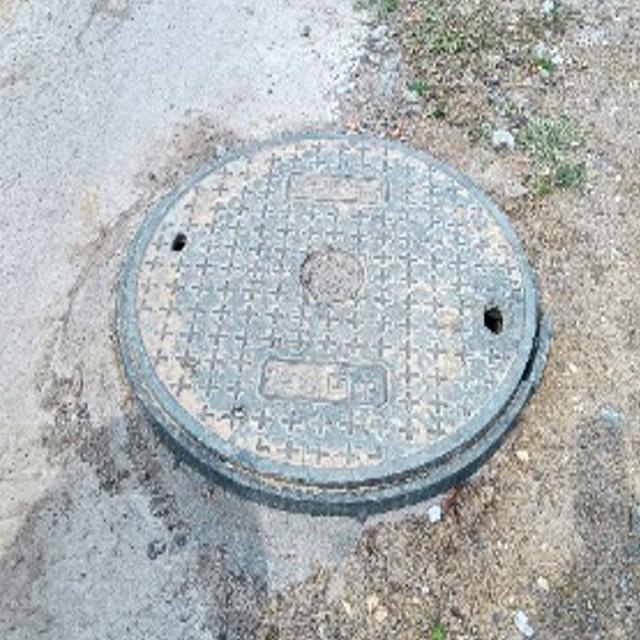good: (116, 131, 551, 513)
